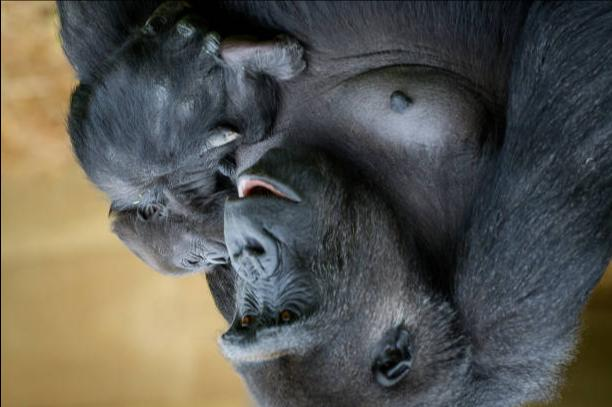gorille_Autres: (56, 0, 596, 402)
